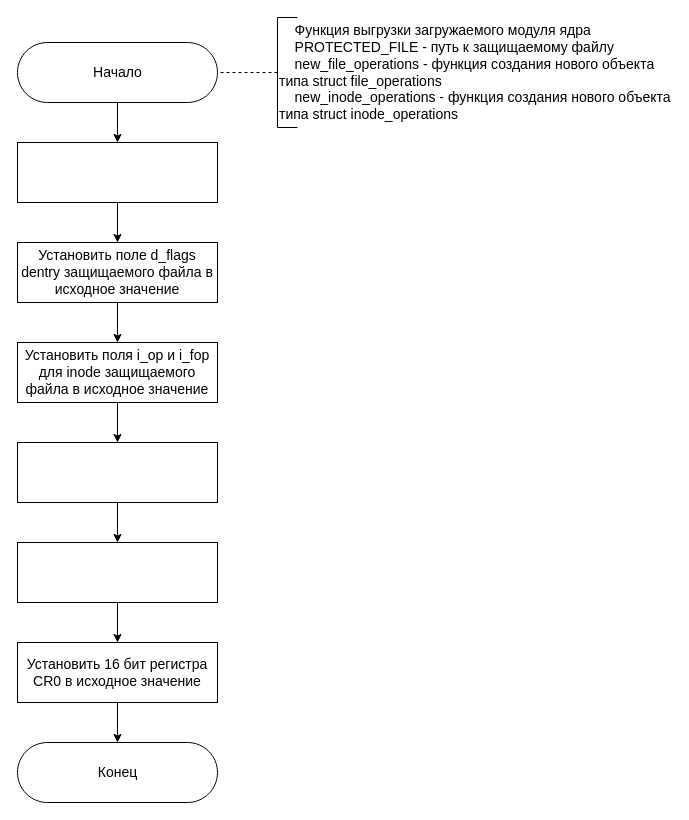
Some shapes in this 689 by 820 pixel diagram are drawn without their labels. The shapes that lost their labels are listed below. From the top down, each one's centre as x and y in pixels, then its label:
[117,172]: Сбросить 16 бит регистра CR0
[117,472]: Освободить new_fop
[117,572]: Освободить new_iop
